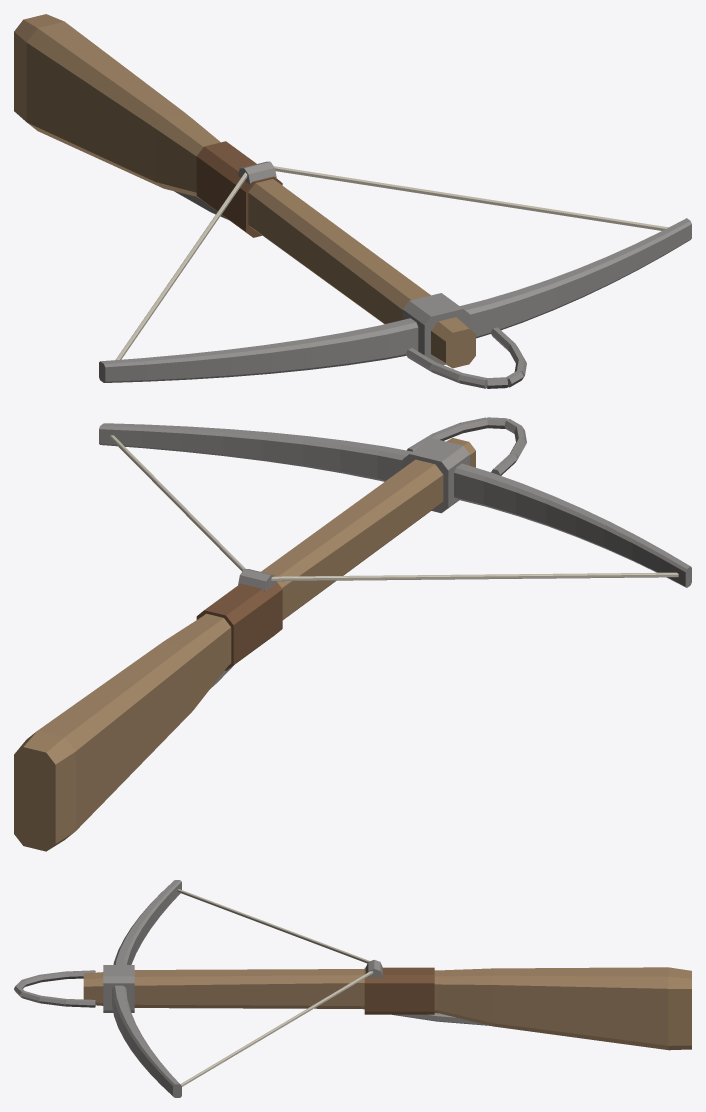
File: equipment.crossbow.default.gltf
The picture shows the model from 3 angles, top to bottom: view 1: azimuth 30°, elevation 25°; view 2: azimuth 150°, elevation 25°; view 3: azimuth 270°, elevation 25°; orthographic projection. The views are drawn at different scales.
Parts seen in each view (by area): view 1: crossbow; view 2: crossbow; view 3: crossbow.
Part boxes in pixels (x1,y1,x2,y2): crossbow: [14, 14, 691, 388]; crossbow: [14, 417, 691, 851]; crossbow: [14, 880, 691, 1097].
Bounding box in the file's own units: 0.62 × 0.115 × 0.8696.
